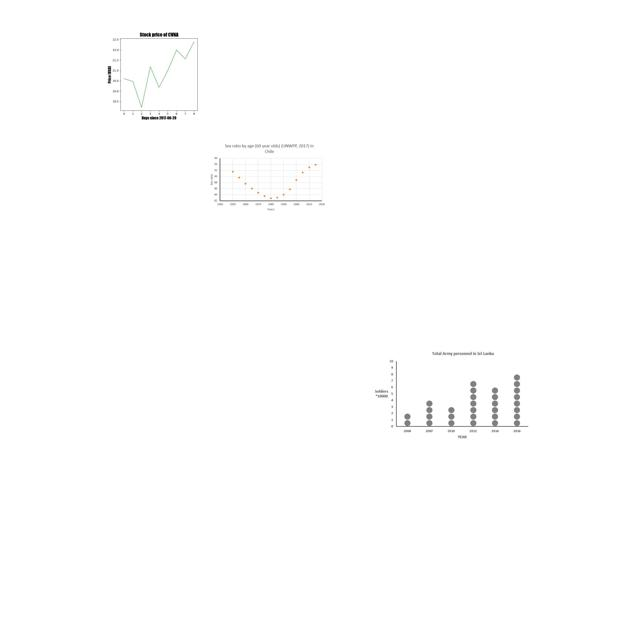Graph: (369, 348, 532, 443), (95, 27, 220, 121), (208, 142, 326, 213)
